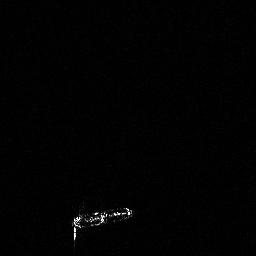ship: (68, 203, 136, 248)
